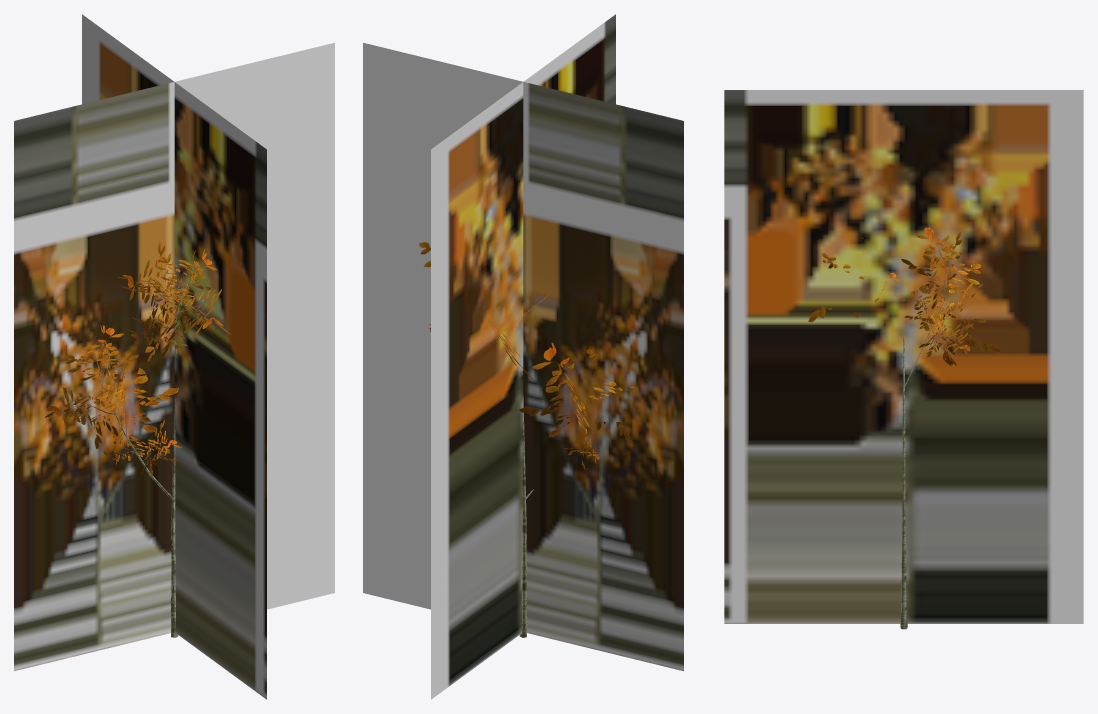
File: Tree-Beech4C-mobile.fbx
3 renders of one model, left to right at view 1: azimuth 30°, elevation 25°; view 2: azimuth 150°, elevation 25°; view 3: azimuth 270°, elevation 25°, orthographic. The views are drawn at different scales.
Parts seen in each view (by area): view 1: Billboard-BeechC, Tree-Beech4C-mobile_LOD0; view 2: Billboard-BeechC, Tree-Beech4C-mobile_LOD0; view 3: Billboard-BeechC, Tree-Beech4C-mobile_LOD0.
Boxes of the visible parts, x1,y1,x2,y2 form: Billboard-BeechC: (14, 14, 334, 699); Tree-Beech4C-mobile_LOD0: (45, 241, 230, 637); Billboard-BeechC: (363, 14, 683, 699); Tree-Beech4C-mobile_LOD0: (419, 242, 634, 637); Billboard-BeechC: (724, 90, 1083, 623); Tree-Beech4C-mobile_LOD0: (808, 226, 1002, 629).
Size of what is drawn, in the model's own units: 676 by 1116 by 676.
